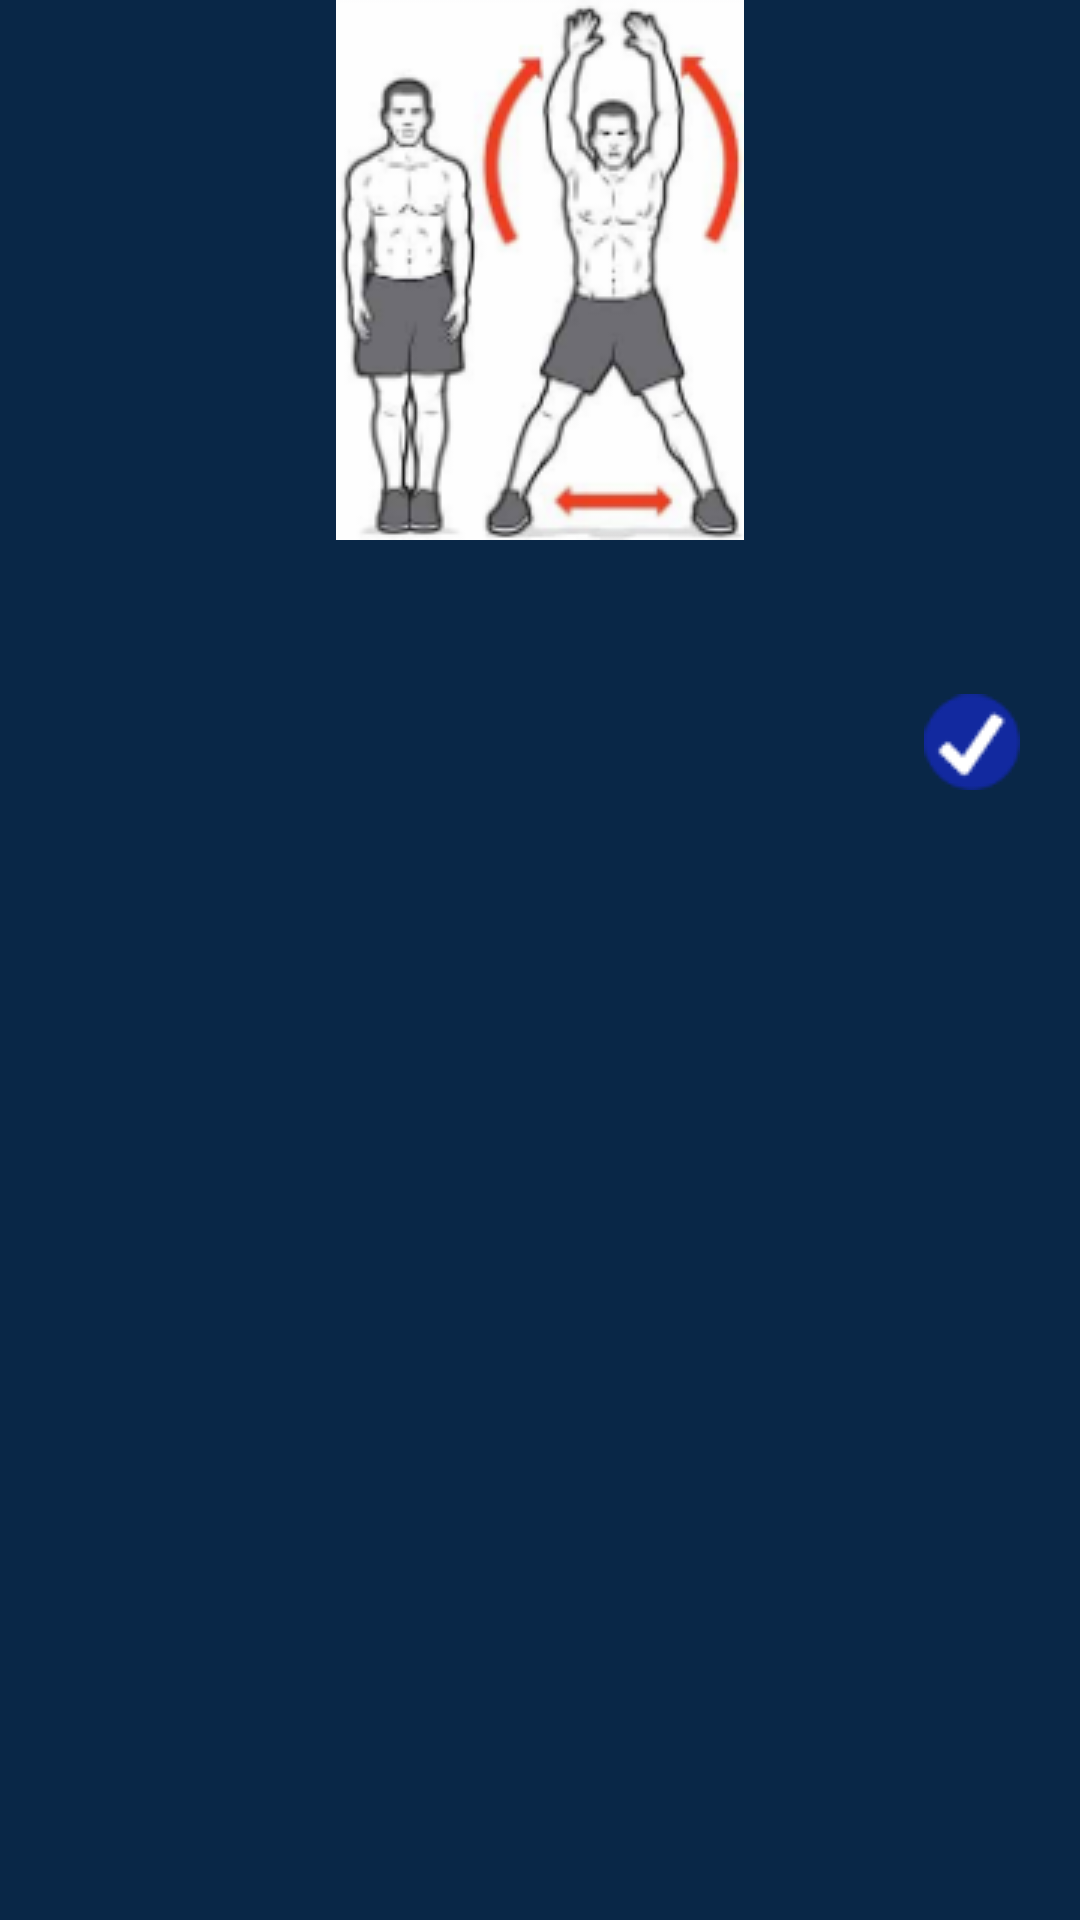

Icon bounding boxes for this 1080px×1920px phone screenshot, format (x1, y1, x2, y2):
check: (924, 694, 1020, 790)
